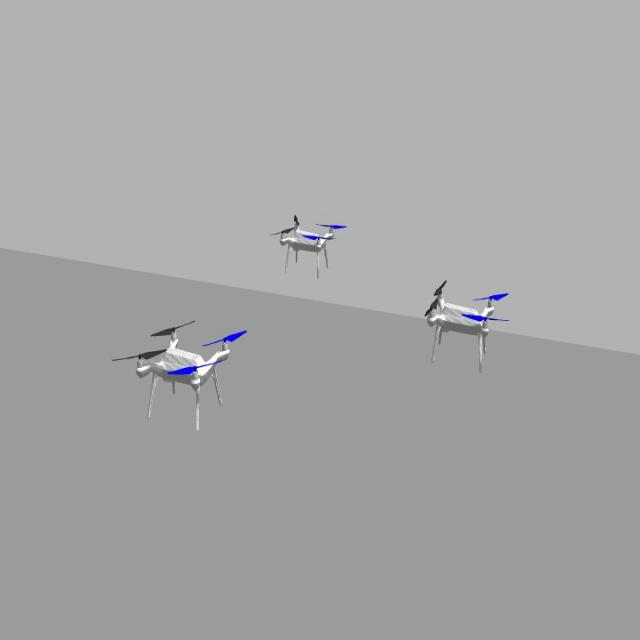Drone: (274, 207, 346, 277)
